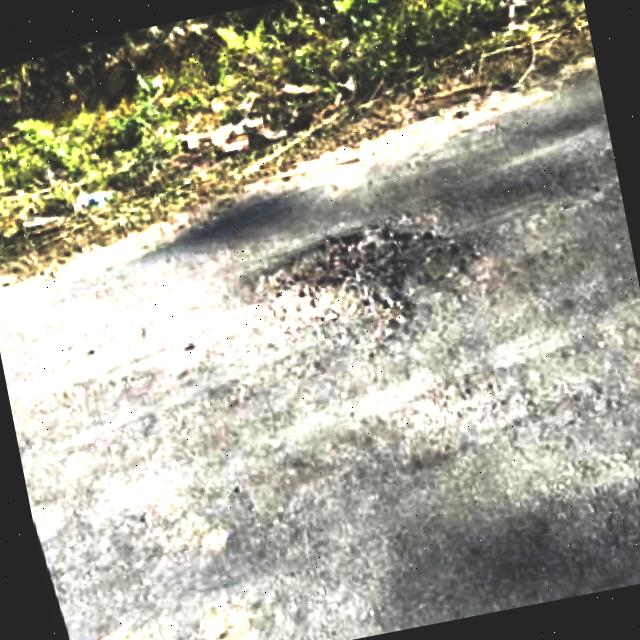pothole: (247, 206, 480, 339)
